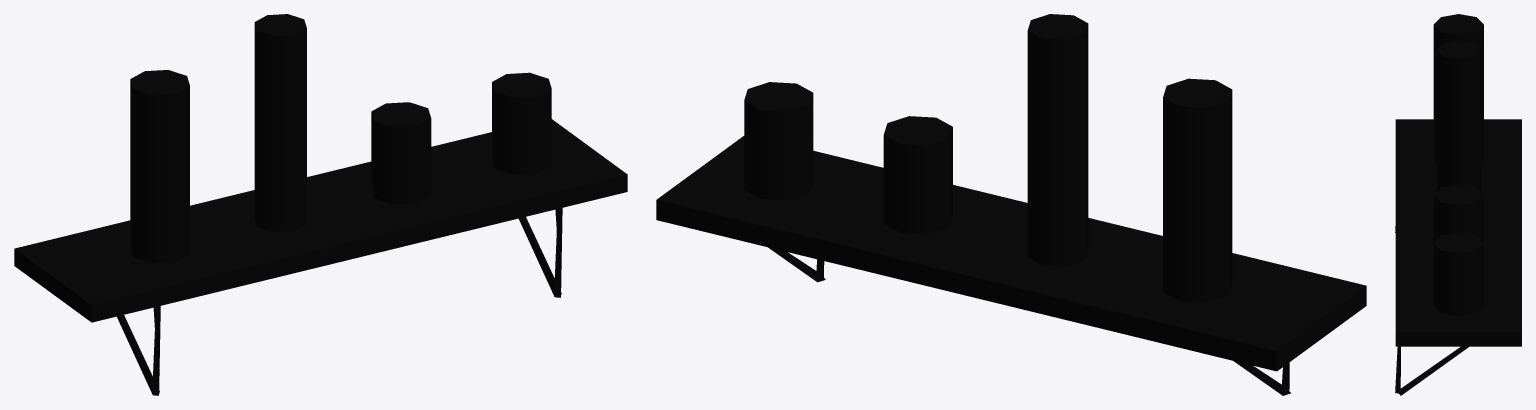
The model's file is SM_wall_shelf_pantry.fbx.
3 renders of one model, left to right at view 1: azimuth 30°, elevation 25°; view 2: azimuth 150°, elevation 25°; view 3: azimuth 270°, elevation 25°, orthographic. The views are drawn at different scales.
Parts seen in each view (by area): view 1: wall_shelf_pantry; view 2: wall_shelf_pantry; view 3: wall_shelf_pantry.
Part boxes in pixels (x1=…): wall_shelf_pantry: x1=14, y1=14, x2=627, y2=395; wall_shelf_pantry: x1=656, y1=14, x2=1366, y2=395; wall_shelf_pantry: x1=1395, y1=14, x2=1521, y2=395.
Size of the model in its own units: 0.8 by 0.4366 by 0.201.
